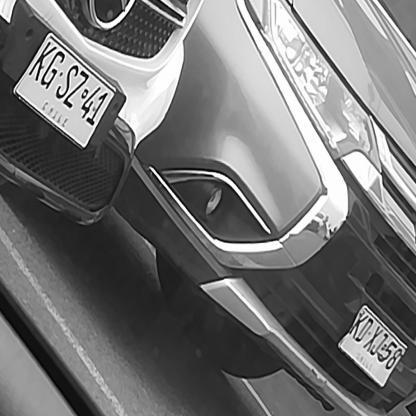Patente: (15, 30, 118, 152), (337, 306, 408, 391)
